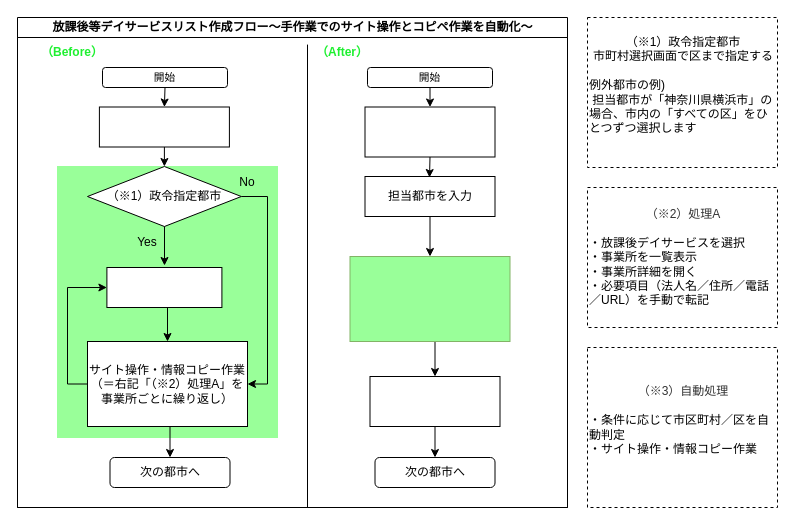
This 795x526 diagram has some shape labels left out. Each missing label, with the centre of its shape:
"取得した情報一覧表示 ダウンロード" goes at pixel 434 401.
"担当都市を選択" goes at pixel 163 126.
"担当都市内の区を 選択" goes at pixel 164 287.
"自動化プログラム起動" goes at pixel 429 131.
"（※3）自動処理" goes at pixel 429 299.
